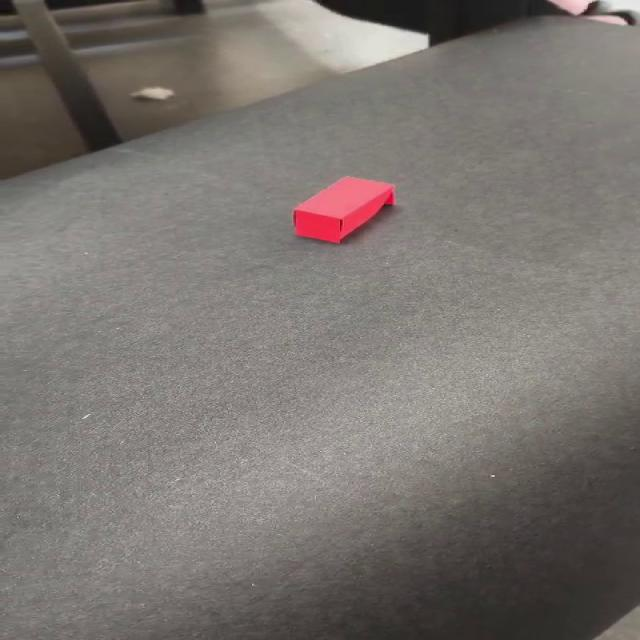red block: (291, 175, 396, 244)
